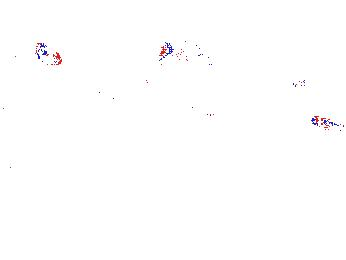X-ray fish: (53, 210, 91, 231)
glassfish: (144, 76, 230, 135), (104, 87, 200, 135)
red belly glassfish: (310, 113, 346, 133), (33, 42, 62, 66), (291, 75, 321, 89)
redtail glassfish: (156, 34, 215, 70)
